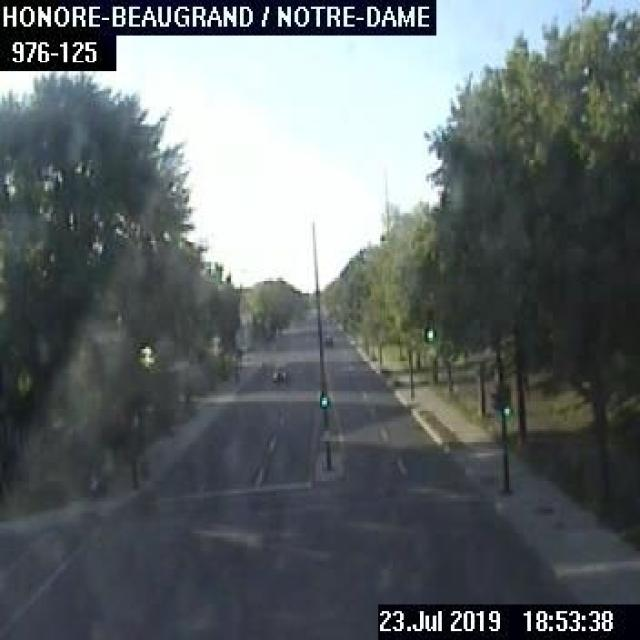vehicle: (270, 362, 288, 382), (323, 334, 331, 345)
